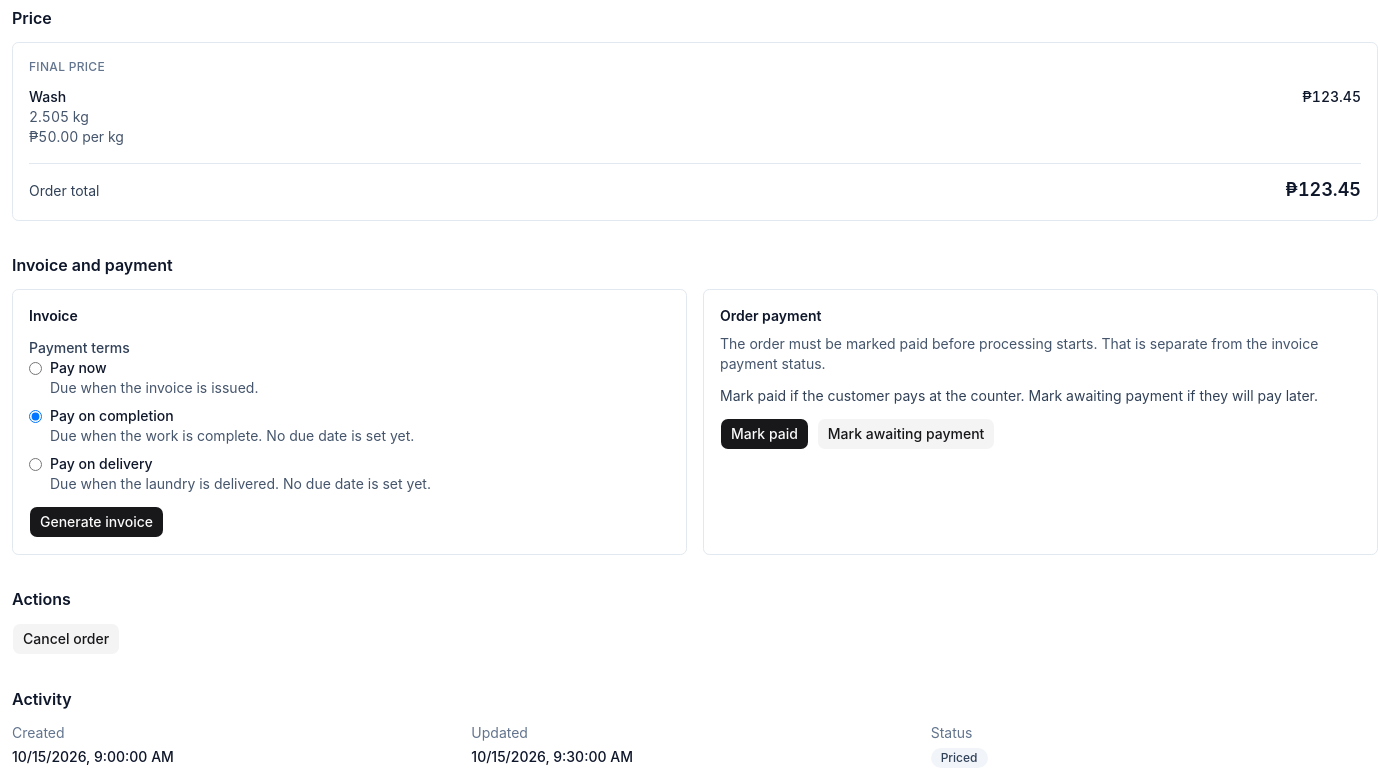
Test: order page invoice and payment (#166) › payment verbs › case 7: Mark paid sends the order id, toasts, and refetches the order
(page scrolled)
Expected: the element with id "laundry-order-invoice" is shown, top-left (12, 253), bottom-right (1377, 555)
Click the button "Mark paid".
click(764, 434)  # box top-left (720, 418), bottom-right (809, 450)
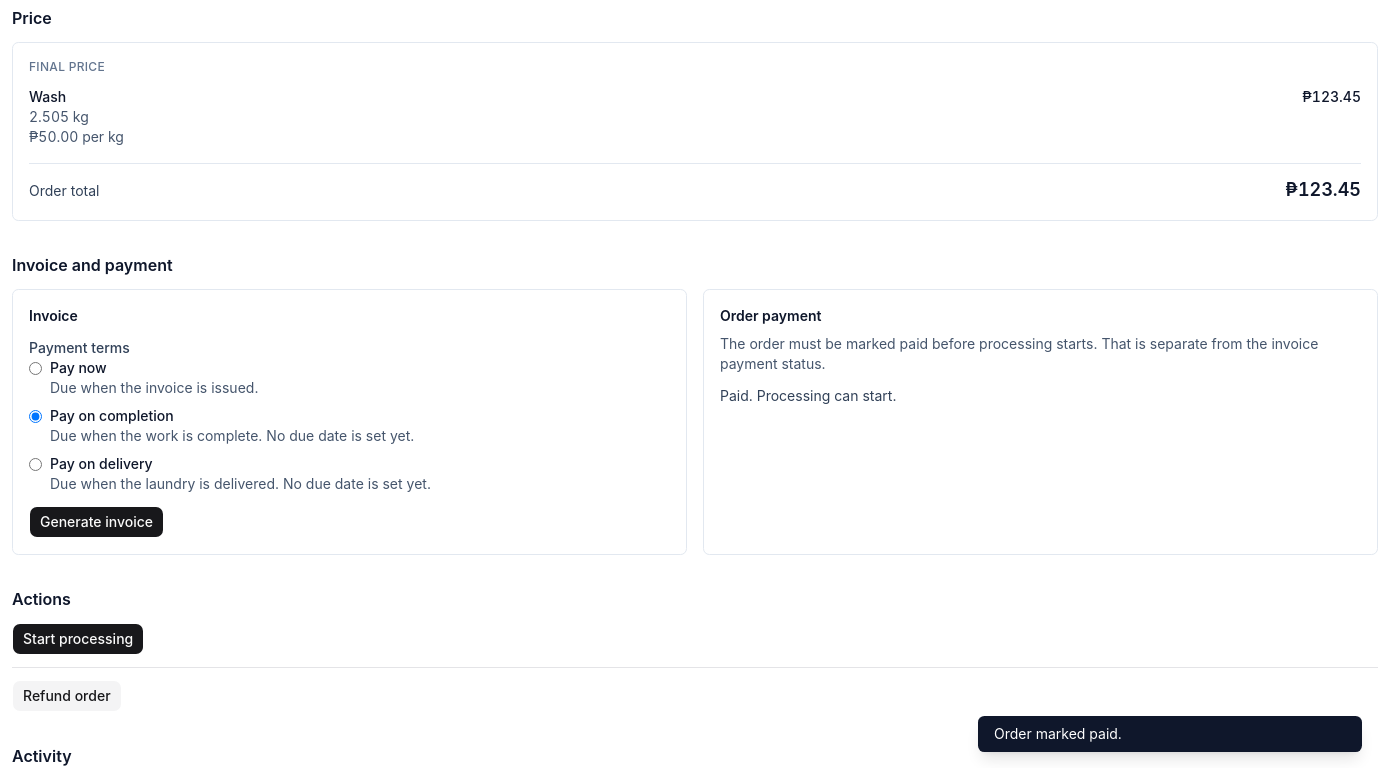
Expected: the element with id "laundry-order-invoice" is shown, top-left (12, 253), bottom-right (1377, 555)
Expected: the text "Order marked paid." is shown, top-left (978, 716), bottom-right (1362, 752)
Expected: the element with id "laundry-order-invoice" shows "Paid. Processing can start.", top-left (720, 387), bottom-right (896, 404)
